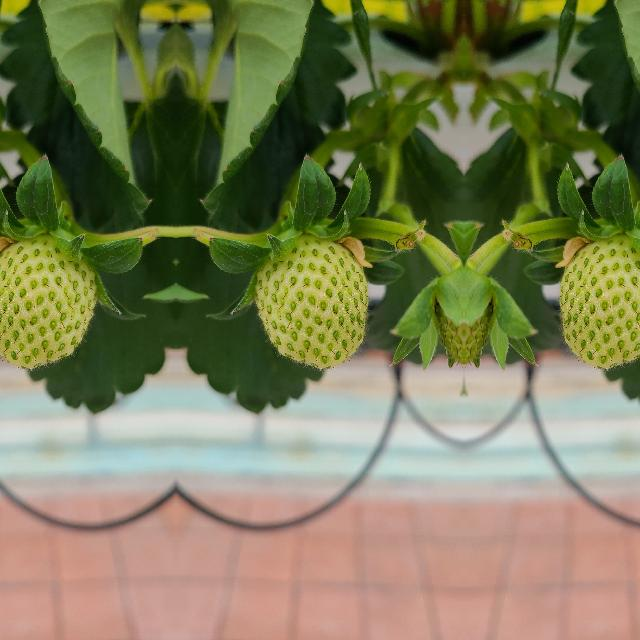Health_25: (252, 233, 372, 373), (0, 233, 98, 373), (553, 233, 640, 373)
